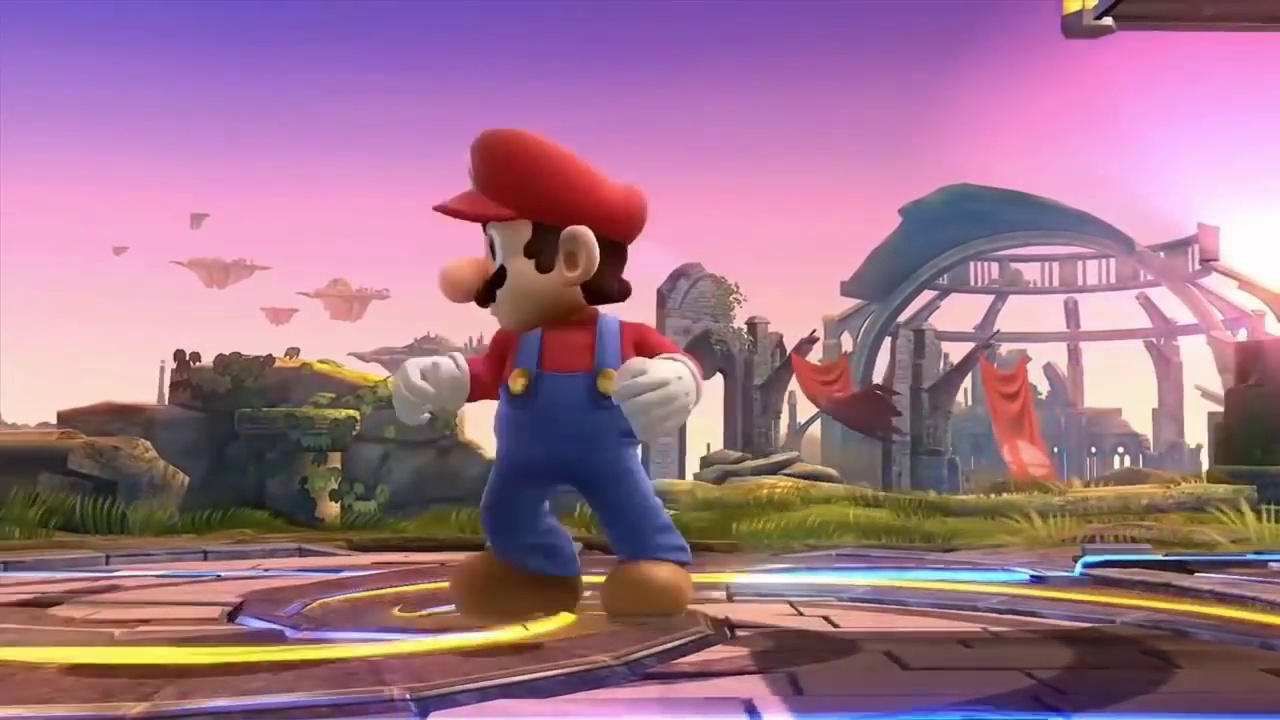Mario: (388, 128, 704, 622)
